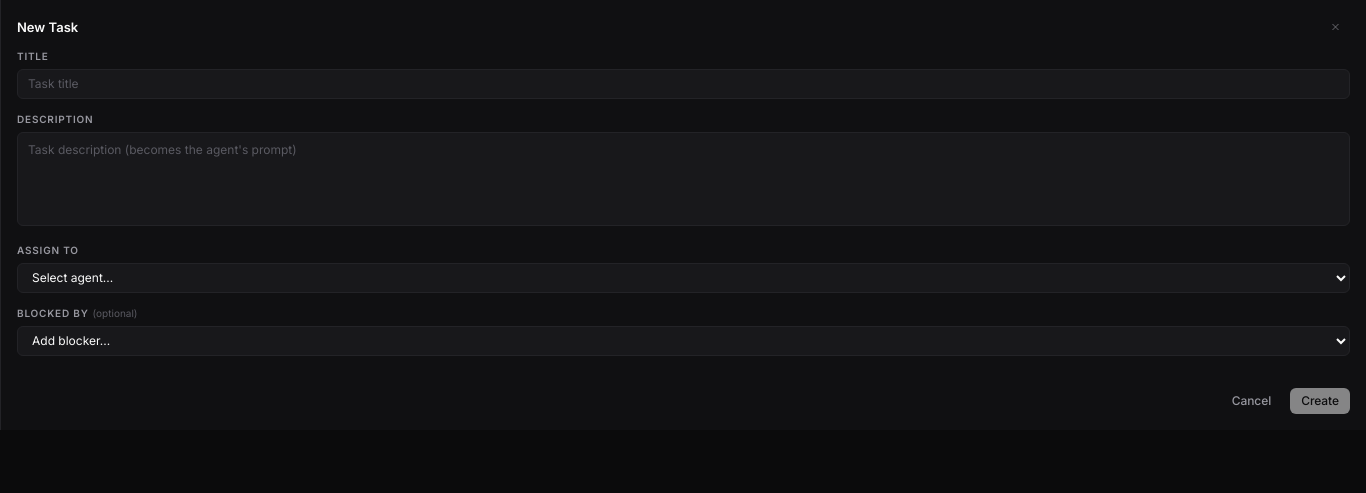
Test: CreateTaskSidebar › when onCreate rejects › stringifies a non-Error rejection
The image size is (1366, 493).
Type "  Ship it  " into the field with placeholder "Task title". click: (684, 84)
box: top-left (28, 76), bottom-right (1339, 92)
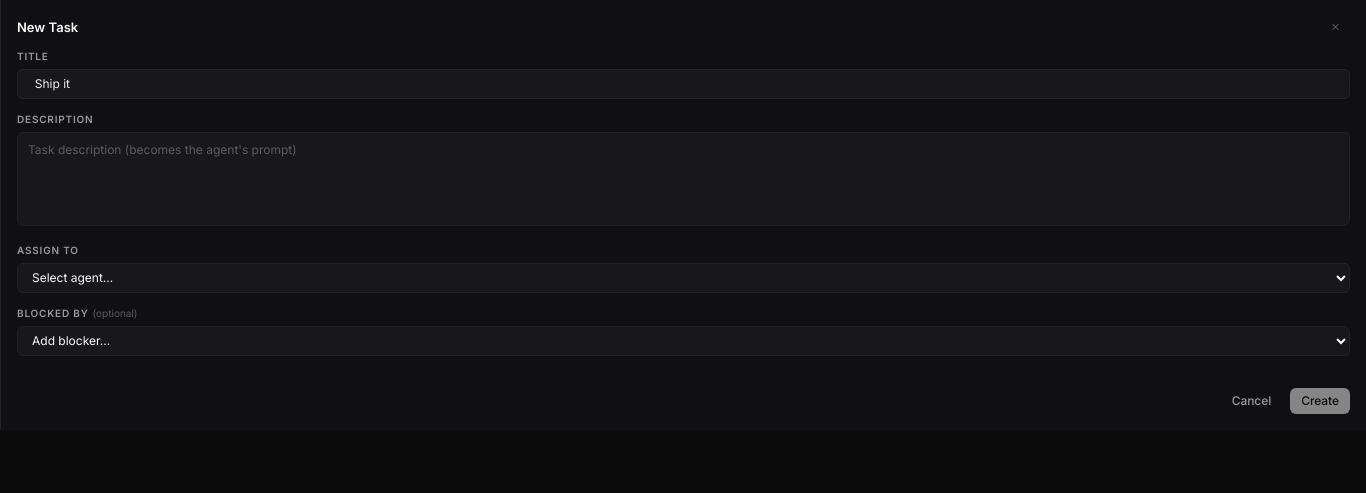
Type "  Do the thing  " into the text box with id "task-desc". click: (684, 179)
box: top-left (17, 132), bottom-right (1350, 226)
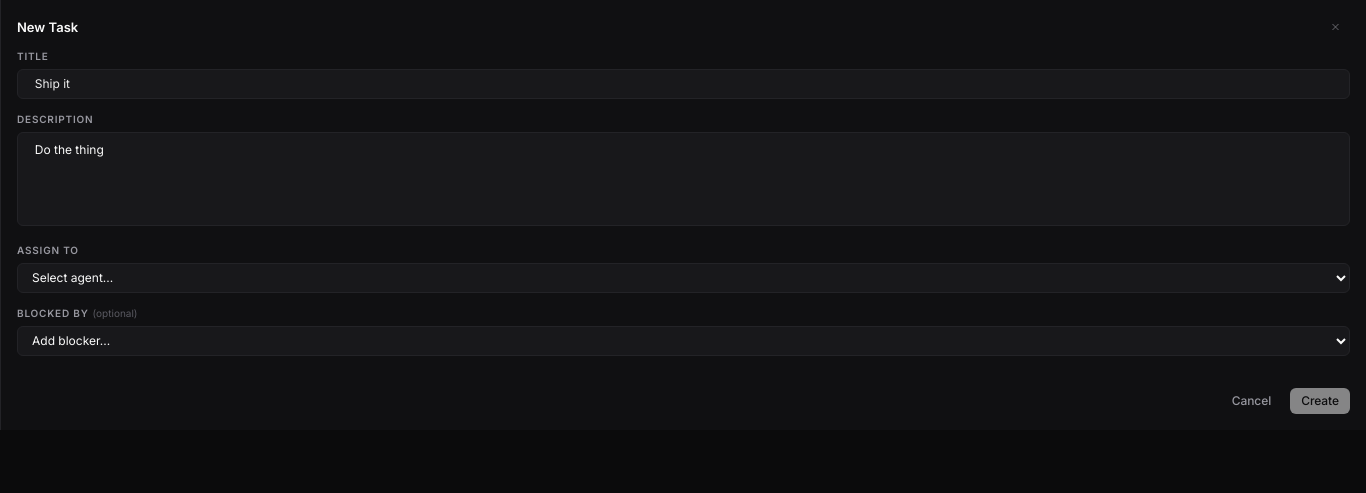
Select "Agent Two" in the dropdown with id "task-agent". click: (684, 278)
box: top-left (17, 263), bottom-right (1350, 293)
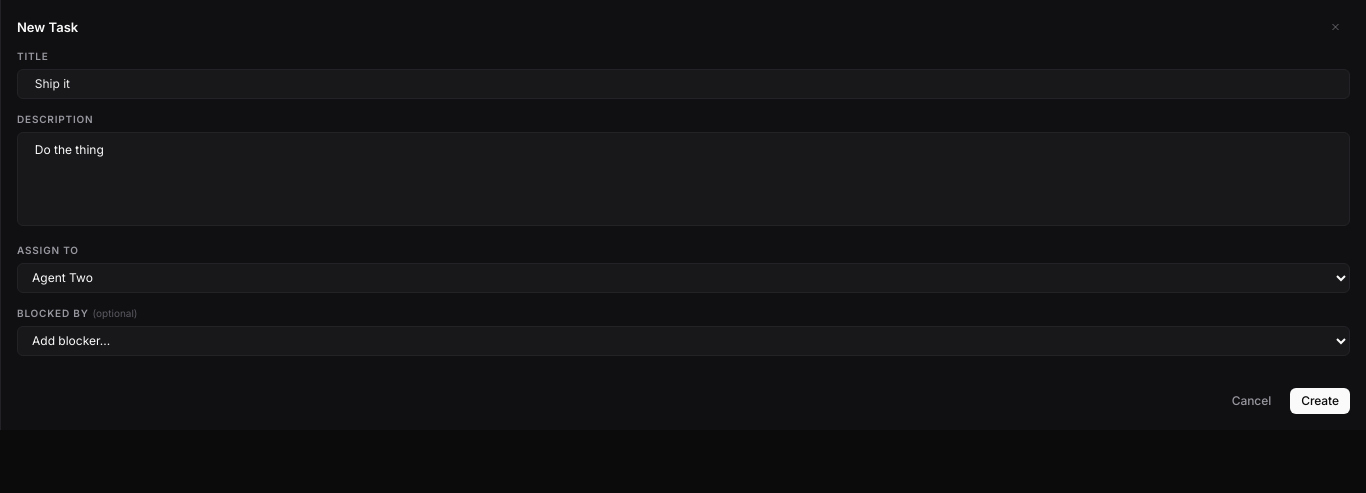
Click the button "Create". click: (1320, 401)
box: top-left (1290, 388), bottom-right (1350, 414)
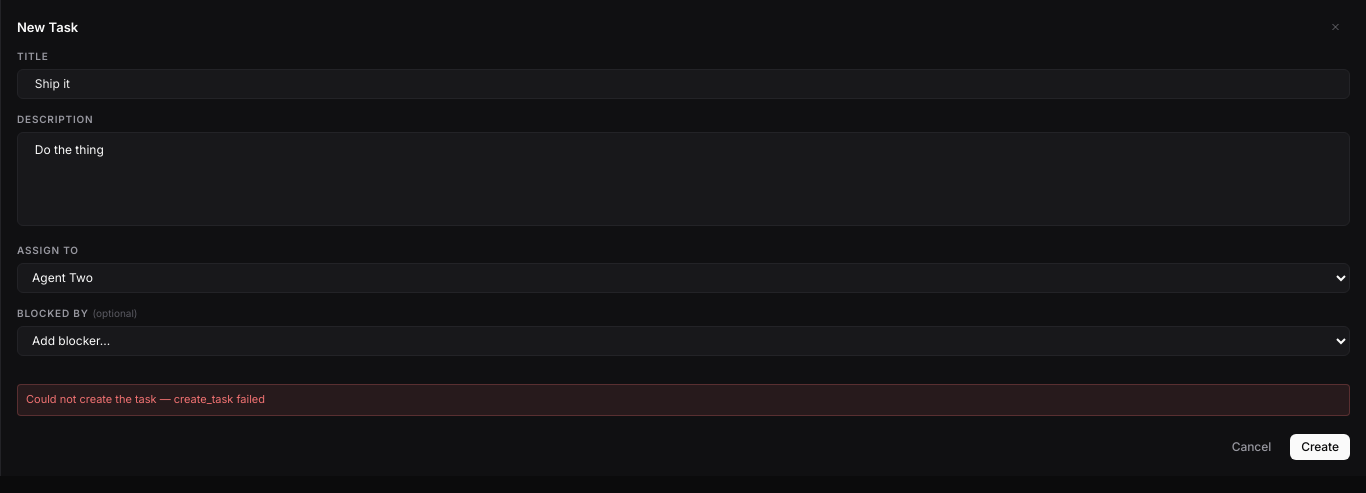
expect the message shows "create_task failed": met, box top-left (26, 392), bottom-right (265, 406)
